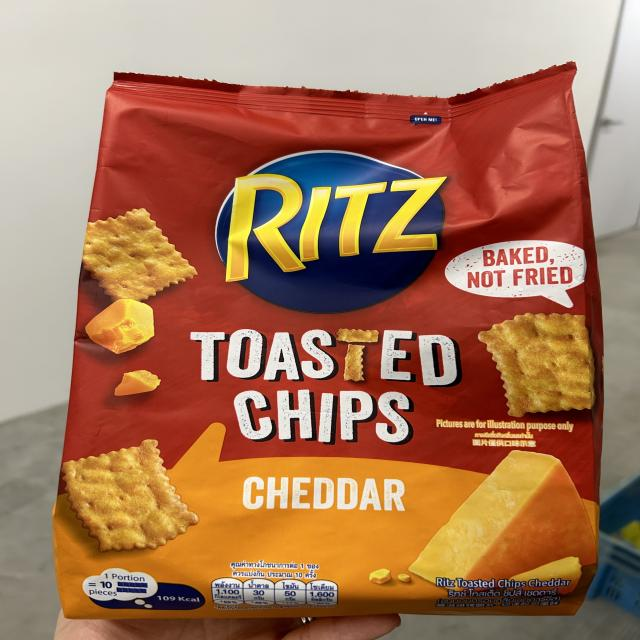object_name: (94, 77, 579, 617)
